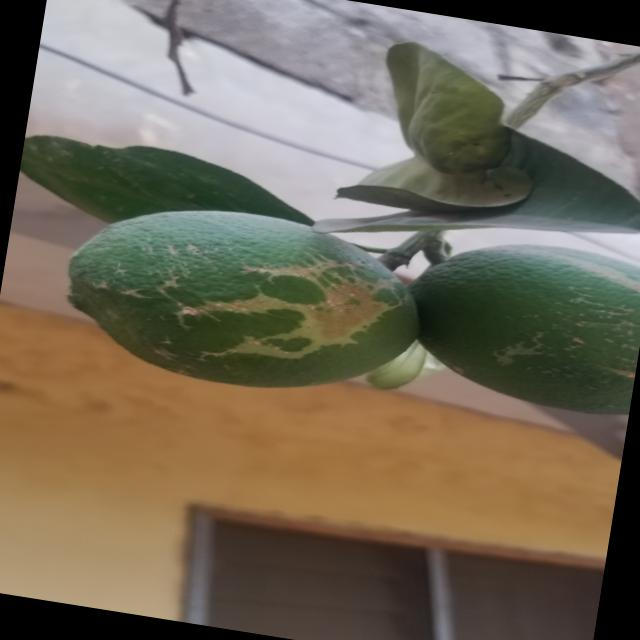Unripe: (60, 188, 425, 406), (399, 228, 640, 419)
